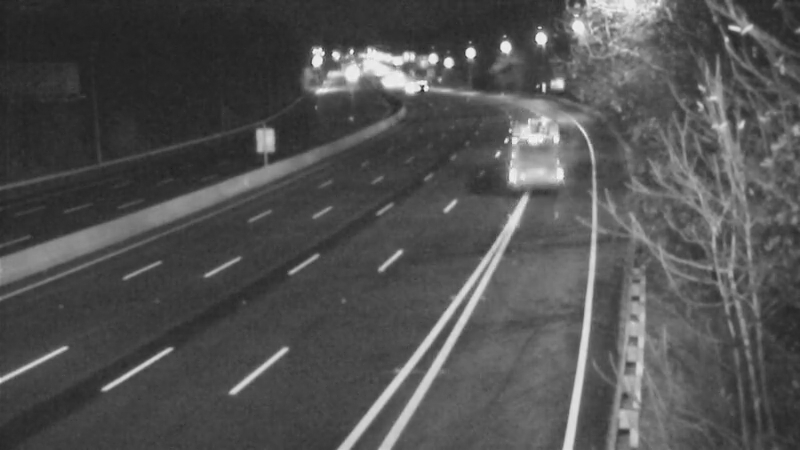vehicle: (362, 58, 412, 108), (394, 60, 444, 110), (385, 66, 435, 116), (504, 109, 554, 159)
